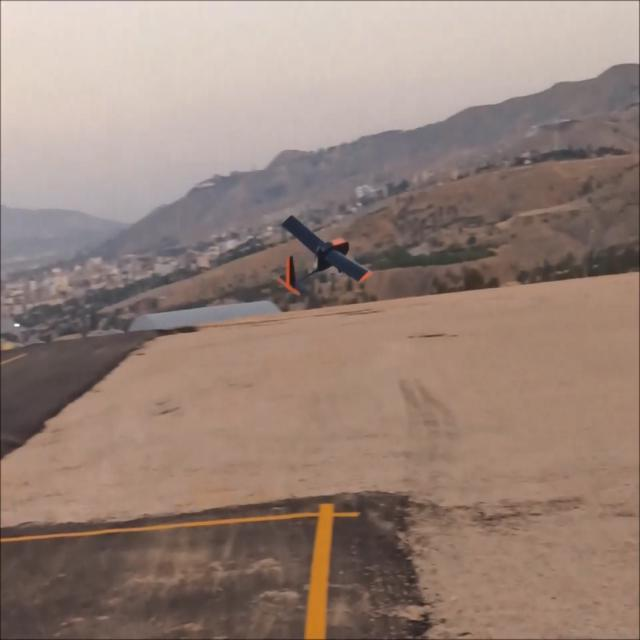UAV: (272, 206, 370, 308)
